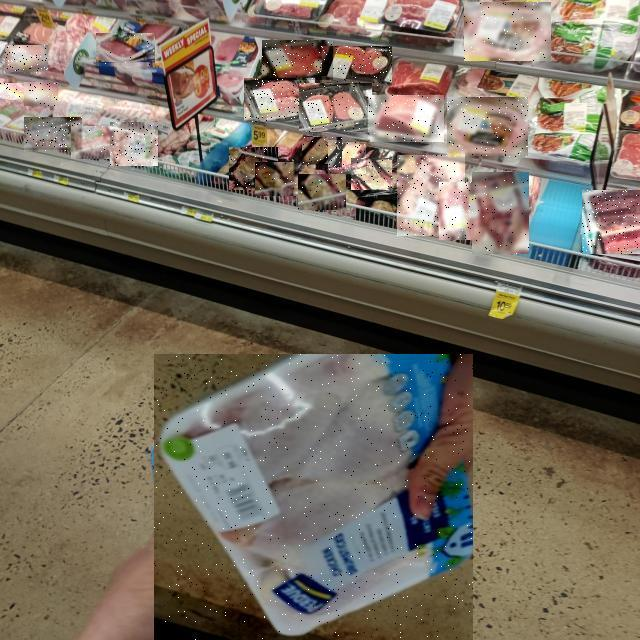Meat: (154, 354, 473, 640), (397, 155, 465, 236), (464, 2, 551, 61), (447, 98, 528, 158), (472, 172, 529, 254), (300, 83, 376, 132), (582, 190, 640, 254), (370, 95, 444, 142), (244, 78, 315, 122), (262, 41, 333, 81), (322, 46, 392, 86), (440, 182, 486, 240), (110, 123, 158, 167), (229, 147, 278, 190), (24, 118, 82, 152), (96, 34, 155, 66), (299, 174, 347, 210), (71, 126, 119, 159), (256, 163, 298, 197), (351, 158, 392, 190), (329, 143, 367, 175), (5, 46, 48, 74), (302, 138, 342, 168), (24, 83, 58, 107), (0, 83, 39, 100)
